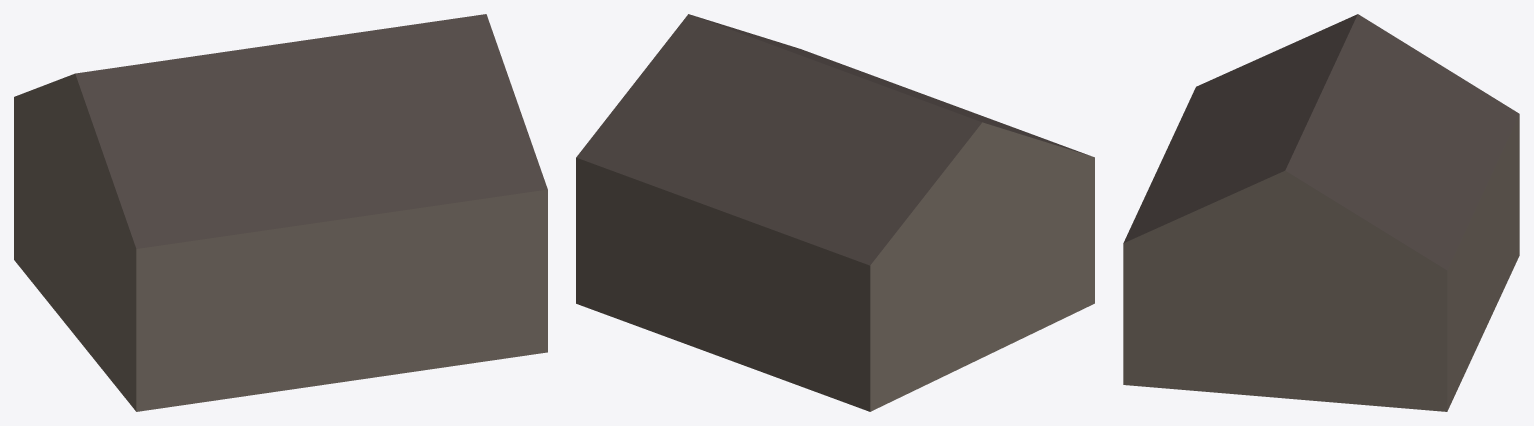
3 views of the same model, side by side, from view 1: azimuth 30°, elevation 25°; view 2: azimuth 150°, elevation 25°; view 3: azimuth 270°, elevation 25° (orthographic). The views are drawn at different scales.
Visible parts, largest first — view 1: HP-w859082545; view 2: HP-w859082545; view 3: HP-w859082545.
Boxes of the visible parts, left/top/right/bottom form: HP-w859082545: left=14, top=14, right=547, bottom=411; HP-w859082545: left=576, top=14, right=1094, bottom=411; HP-w859082545: left=1123, top=14, right=1519, bottom=411.
Size of the model in its own units: 16.7 by 9.66 by 15.23.
